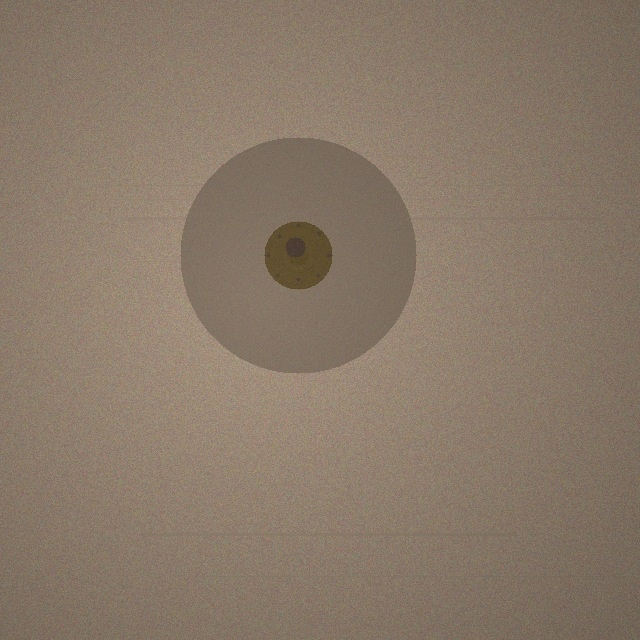cold_weld: (180, 137, 416, 373)
